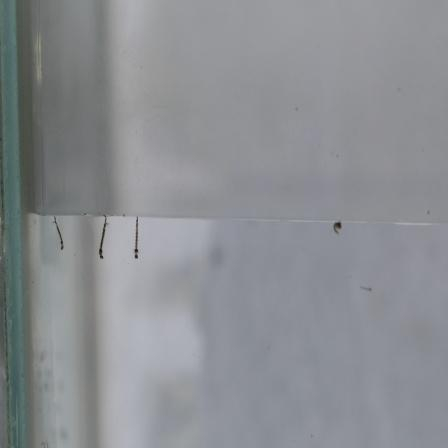Jentik-Nyamuk: (95, 210, 111, 265), (127, 214, 144, 262), (49, 212, 67, 252), (327, 218, 344, 236)
